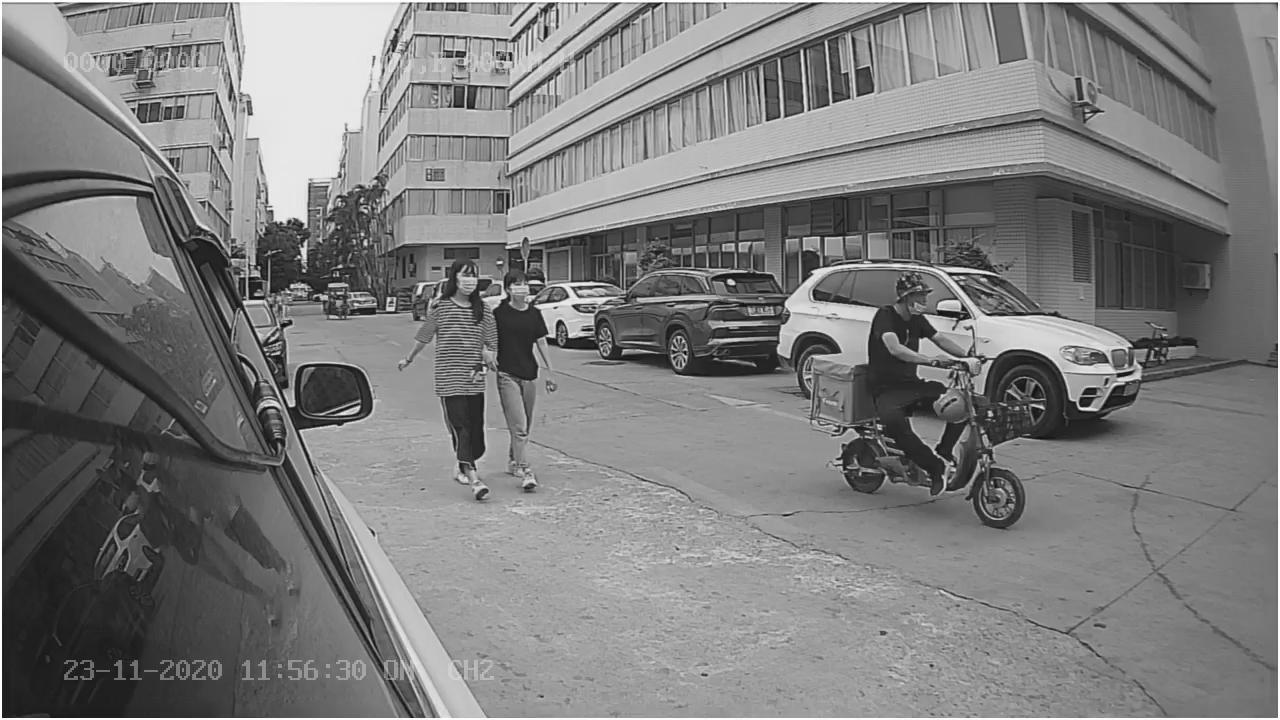person: (409, 255, 493, 499), (857, 270, 949, 360)
